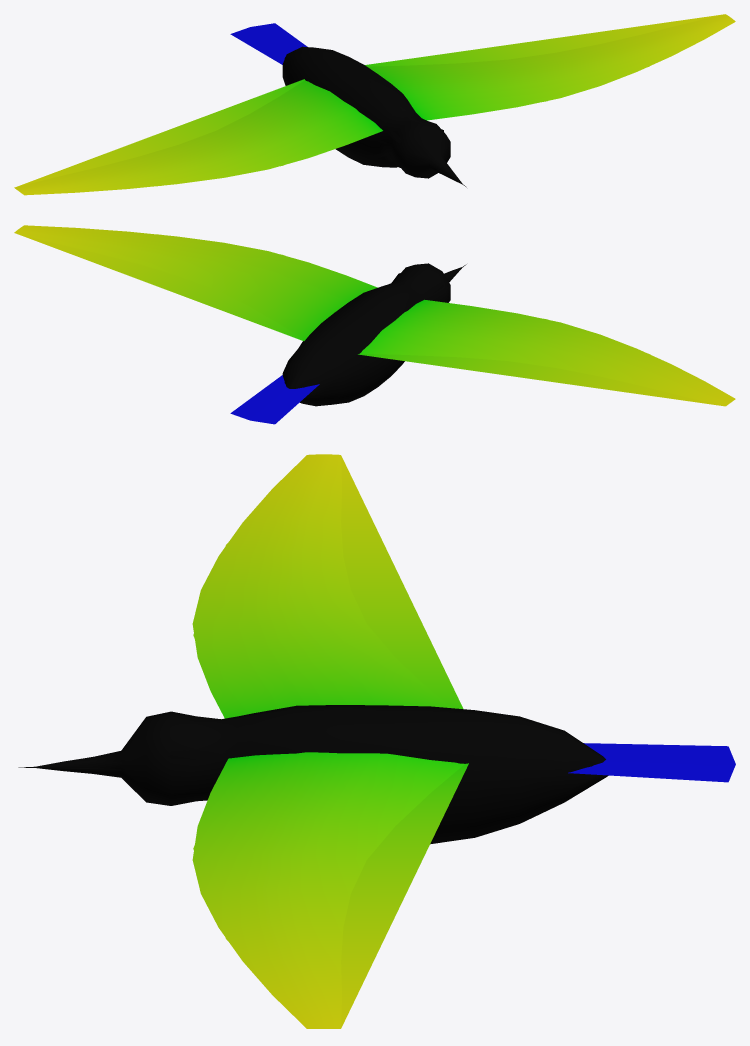
The model's file is starling.glb.
3 views of the same model, one above another, from view 1: azimuth 30°, elevation 25°; view 2: azimuth 150°, elevation 25°; view 3: azimuth 270°, elevation 25° (orthographic). The views are drawn at different scales.
Visible parts, largest first — view 1: fly0, fly2, fly1; view 2: fly0, fly2, fly1; view 3: fly0, fly2, fly1.
Boxes of the visible parts, x1,y1,x2,y2 form: fly0: (14, 14, 735, 195); fly2: (17, 14, 723, 191); fly1: (16, 26, 649, 193); fly0: (14, 225, 735, 424); fly2: (15, 233, 723, 406); fly1: (92, 234, 733, 420); fly0: (33, 454, 735, 1028); fly2: (18, 455, 468, 1028); fly1: (31, 509, 735, 1028).
Bounding box in the file's own units: 0.38 × 0.0404 × 0.202.
